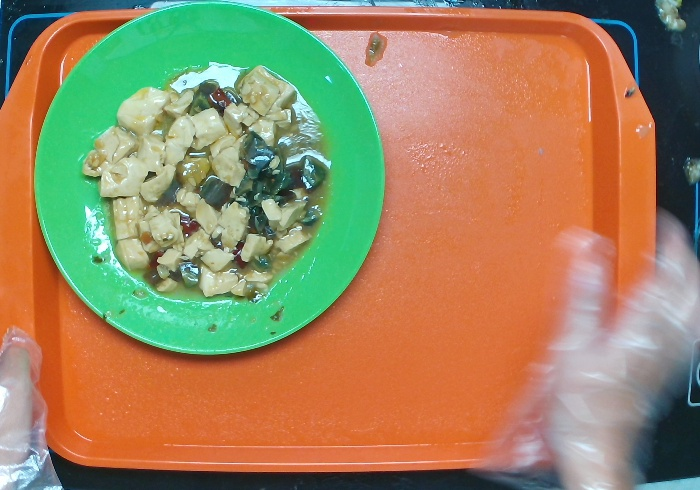HZYJPL-Lv_Se_Yuan_Pan: (22, 1, 388, 366)
